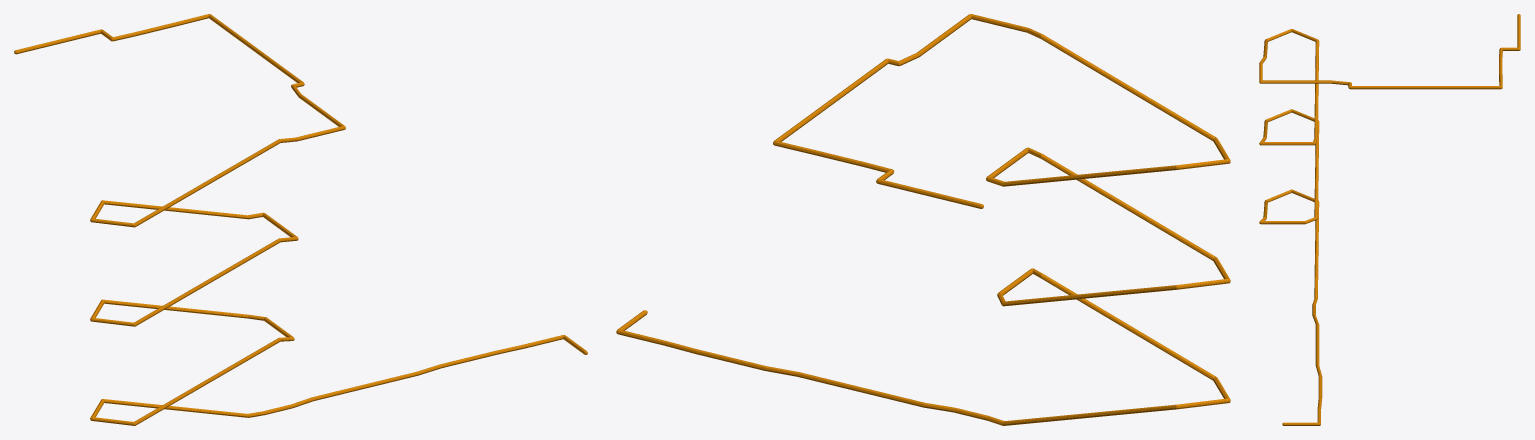
3 views of the same model, side by side, from view 1: azimuth 30°, elevation 25°; view 2: azimuth 150°, elevation 25°; view 3: azimuth 270°, elevation 25° (orthographic). The views are drawn at different scales.
Size of the model in its own units: 2595 by 1520 by 1475.
